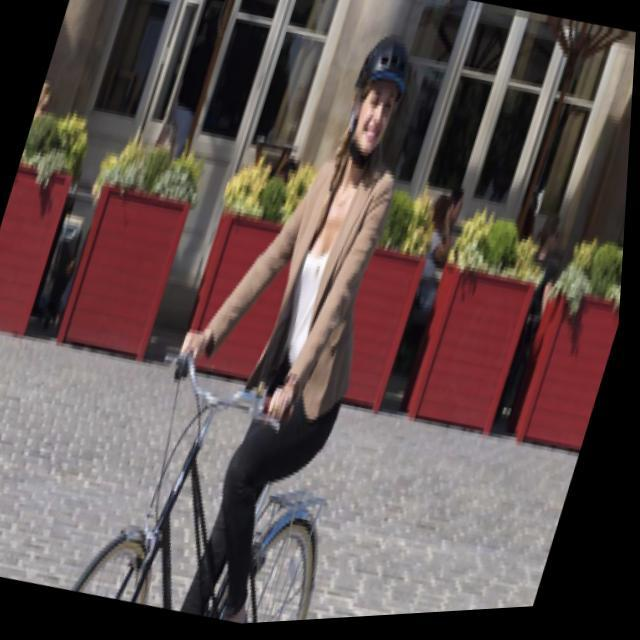Helmet: (337, 33, 412, 160)
